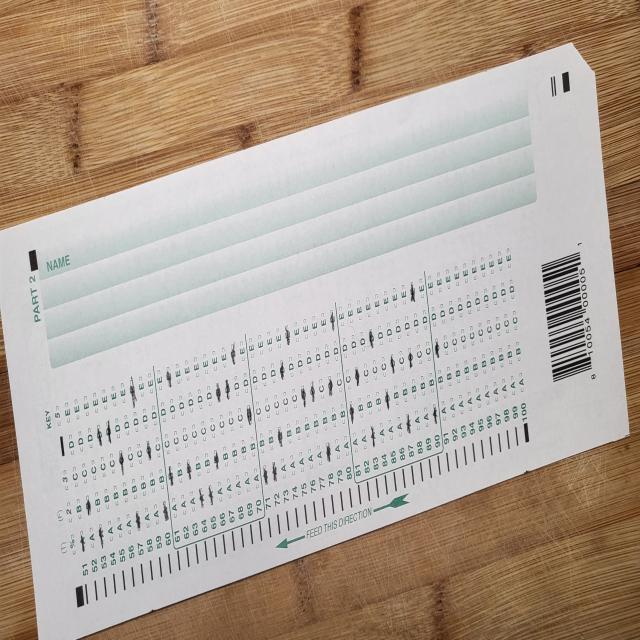scantron_back: (0, 42, 629, 640)
